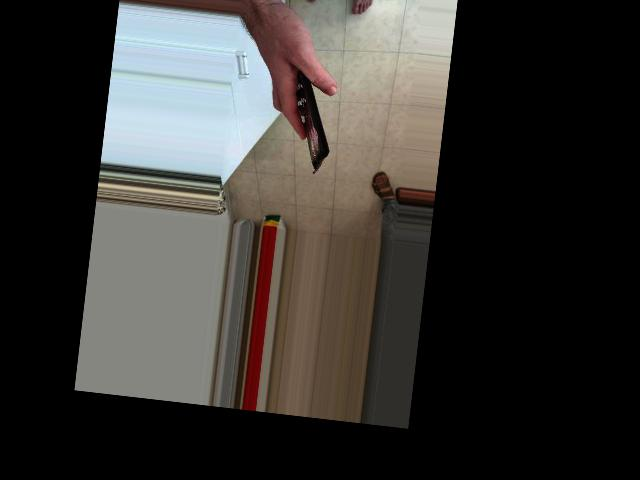chocolate: (275, 58, 346, 174)
